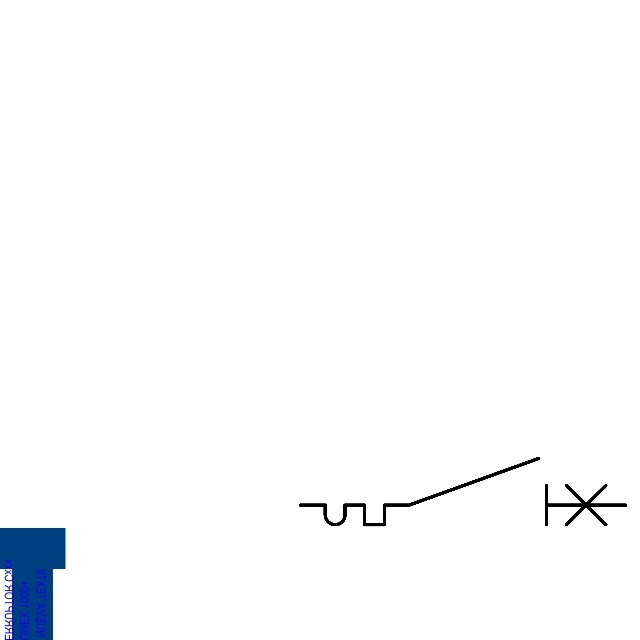interruptor_termomagnetico: (292, 450, 633, 533)
